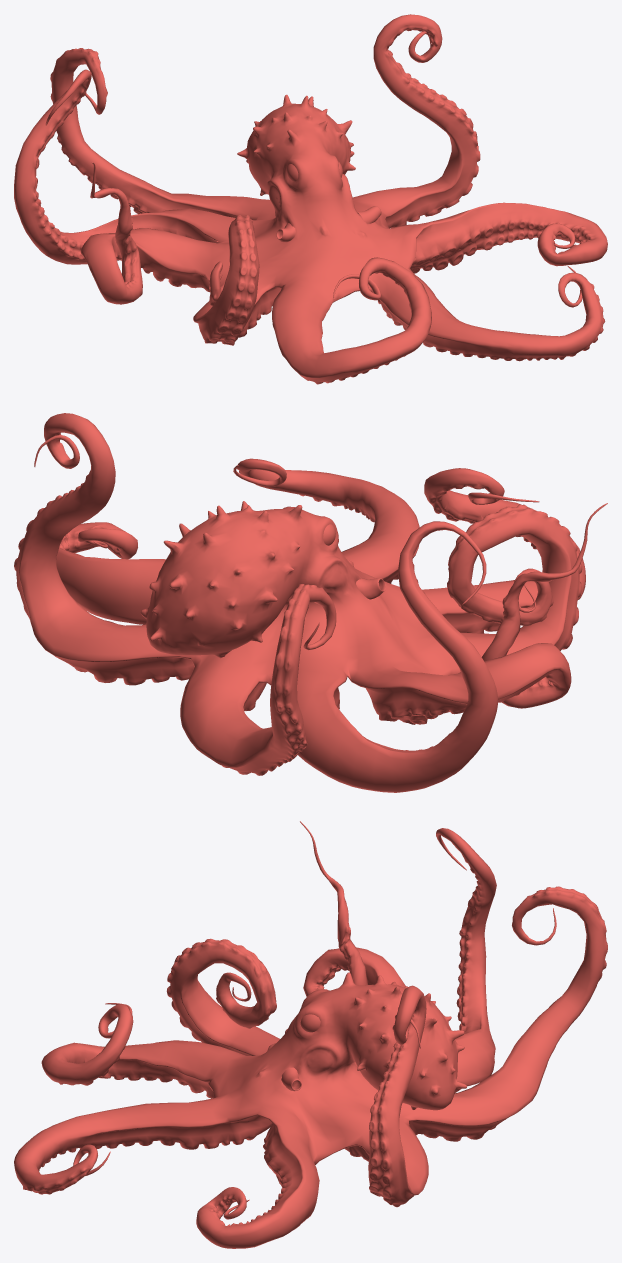
The model's file is Otcopus.fbx.
3 views of the same model, one above another, from view 1: azimuth 30°, elevation 25°; view 2: azimuth 150°, elevation 25°; view 3: azimuth 270°, elevation 25° (orthographic). The views are drawn at different scales.
Parts seen in each view (by area): view 1: otcopus; view 2: otcopus; view 3: otcopus.
Part boxes in pixels (x1,y1,x2,y2): otcopus: [14, 14, 607, 384]; otcopus: [14, 413, 607, 792]; otcopus: [14, 821, 607, 1248].
Size of the model in its own units: 4895 by 2060 by 5048.
